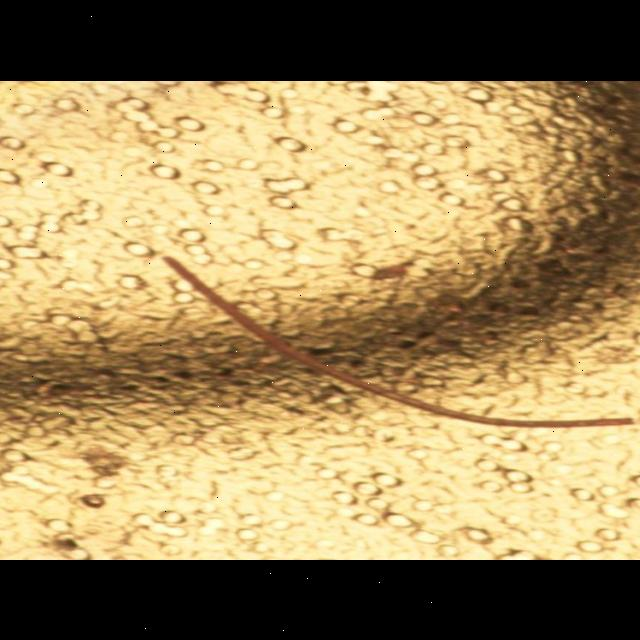Fibre: (157, 255, 636, 430)
